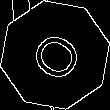O_SE: (22, 23, 88, 87)
